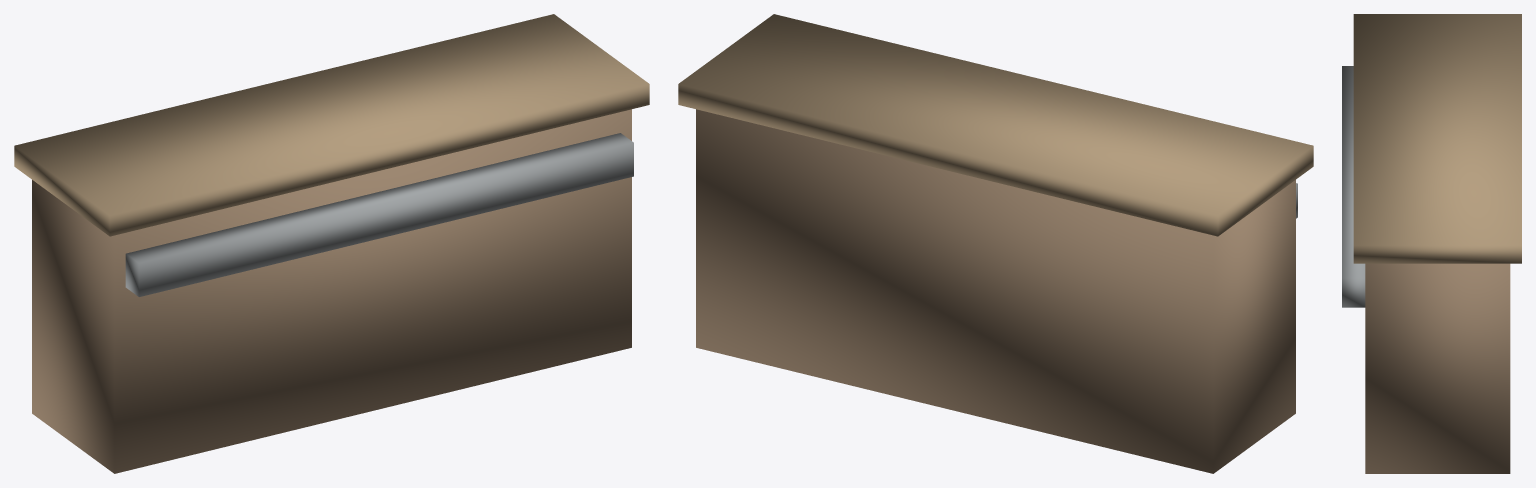
File: bar_counter__compact.glb
3 renders of one model, left to right at view 1: azimuth 30°, elevation 25°; view 2: azimuth 150°, elevation 25°; view 3: azimuth 270°, elevation 25°, orthographic. The views are drawn at different scales.
Visible parts, largest first — view 1: world; view 2: world; view 3: world.
Boxes of the visible parts, bbox=[...] form: world: bbox=[14, 14, 649, 473]; world: bbox=[678, 14, 1313, 473]; world: bbox=[1342, 14, 1521, 473].
Size of the model in its own units: 2.02 by 0.9486 by 0.6622.
